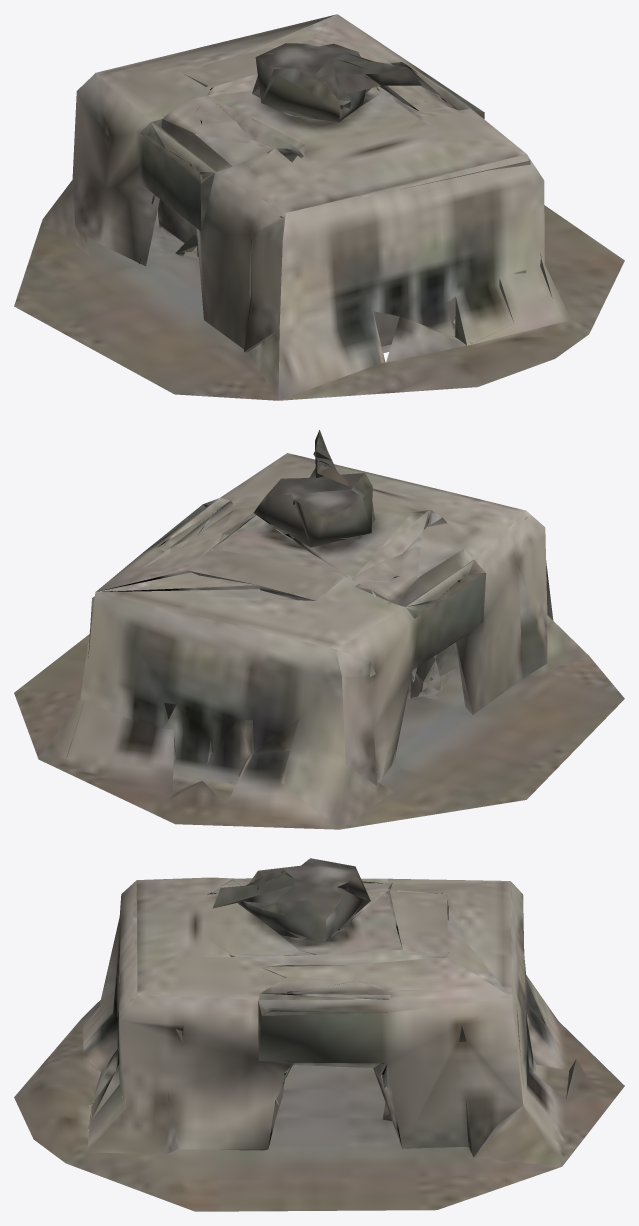
Rendered from bunker_1230409187_lod0m.glb.
3 renders of one model, top to bottom at view 1: azimuth 30°, elevation 25°; view 2: azimuth 150°, elevation 25°; view 3: azimuth 270°, elevation 25°, orthographic. The views are drawn at different scales.
Size of the model in its own units: 8.38 by 3.71 by 8.99.
1 material, 1 textured.
